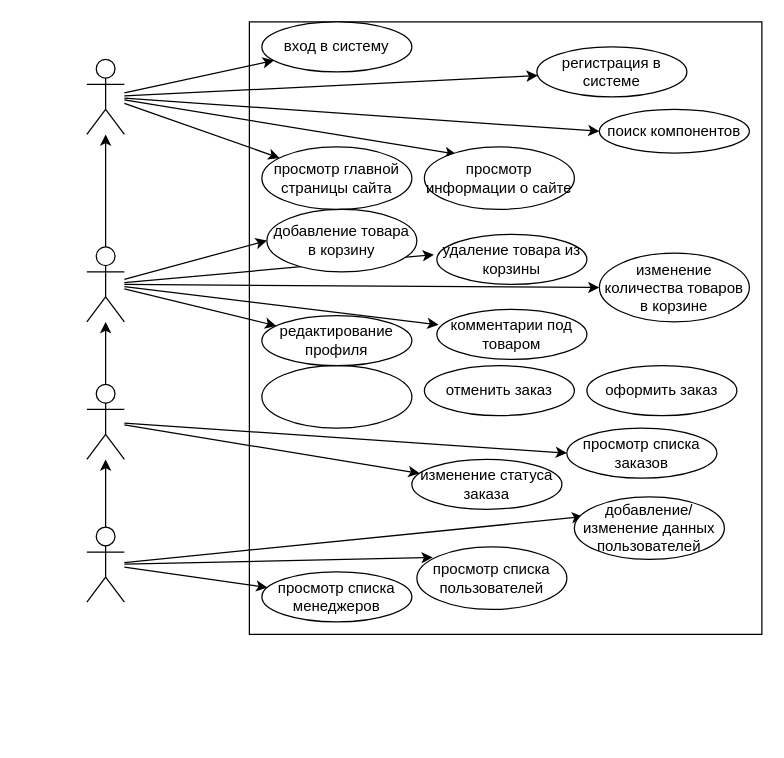
This 784x758 diagram has some shape labels left out. Here are the shapes that lost their labels. From the top down, the centre of each, then its label:
At point (105, 96): "Гость".
At point (105, 284): "Пользователь".
At point (336, 396): "просмотреть историю заказов".
At point (105, 421): "Менеджер".
At point (105, 564): "Администратор".
